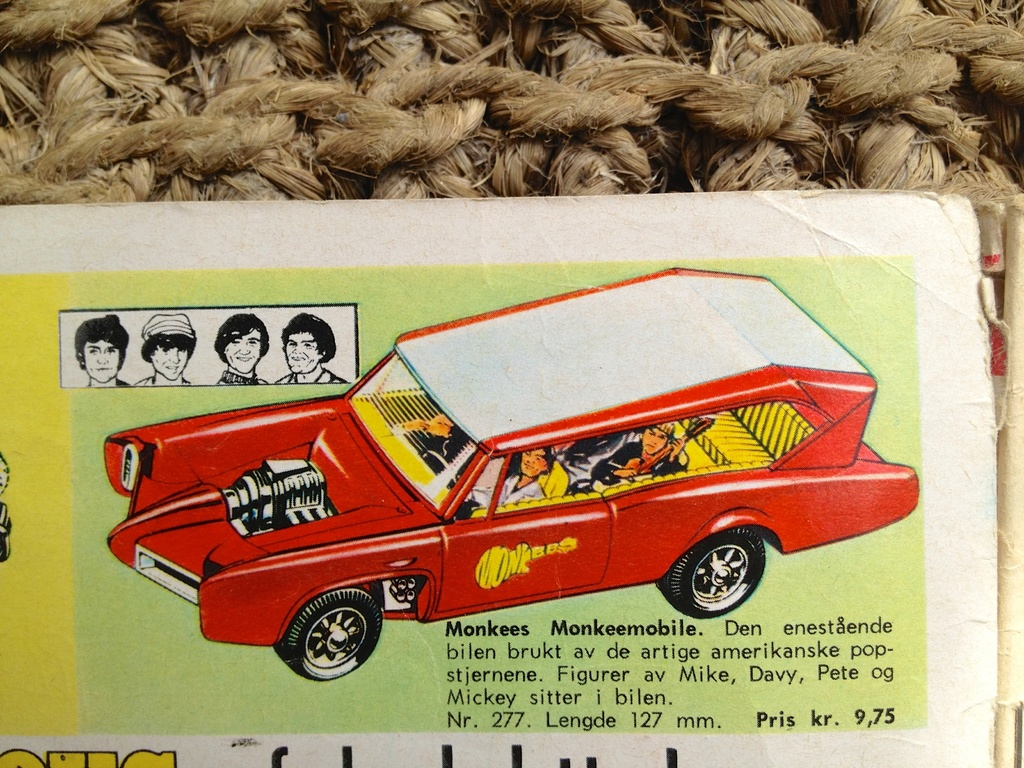Car: (104, 263, 917, 682)
